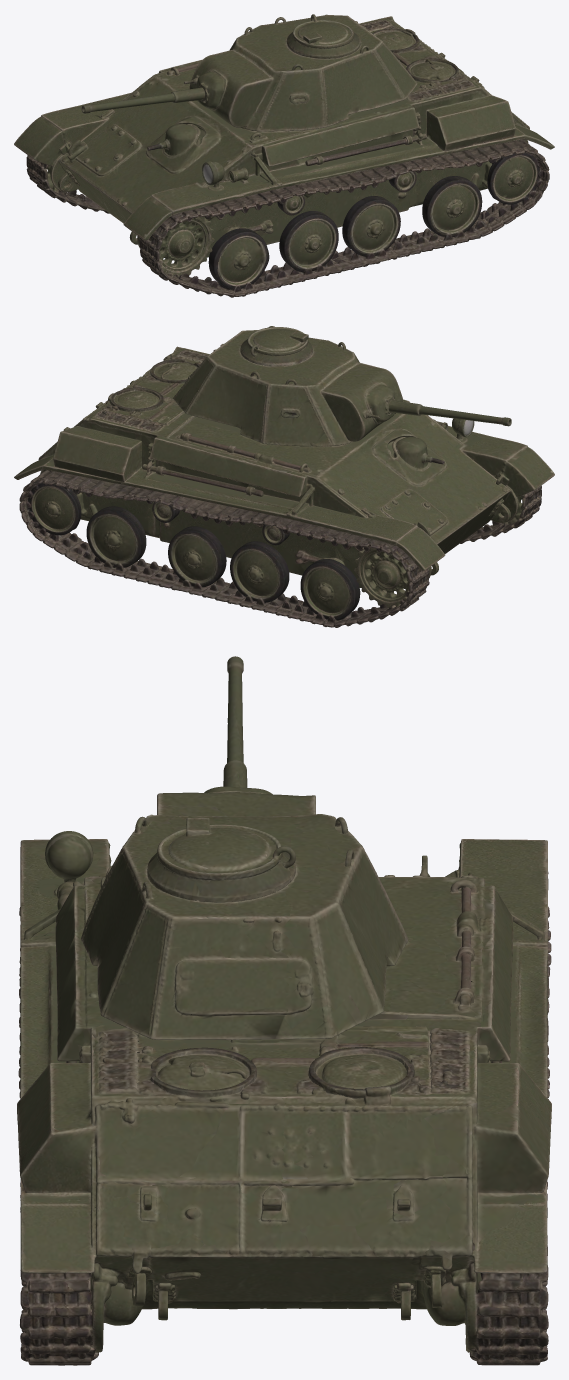
3 views of the same model, one above another, from view 1: azimuth 30°, elevation 25°; view 2: azimuth 150°, elevation 25°; view 3: azimuth 270°, elevation 25° (orthographic). The views are drawn at different scales.
Size of the model in its own units: 1.9 by 0.8794 by 1.05.
Materials: 1 (1 with a texture image).
